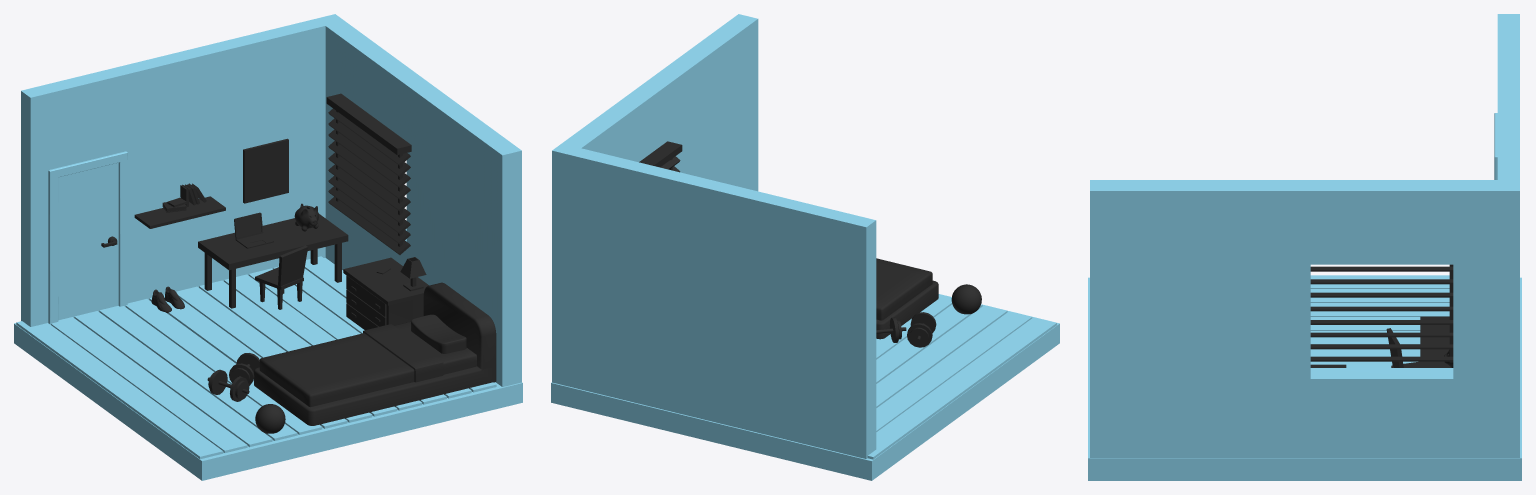
The model's file is UDG Room.FBX.
The picture shows the model from 3 angles, left to right: view 1: azimuth 30°, elevation 25°; view 2: azimuth 150°, elevation 25°; view 3: azimuth 270°, elevation 25°; orthographic projection. The views are drawn at different scales.
Visible parts, largest first — view 1: bedroom; view 2: bedroom; view 3: bedroom.
Boxes of the visible parts, left/top/right/bottom form: bedroom: left=14, top=14, right=522, bottom=480; bedroom: left=551, top=14, right=1059, bottom=480; bedroom: left=1088, top=14, right=1521, bottom=480.
Bounding box in the file's own units: 479 × 359 × 486.
